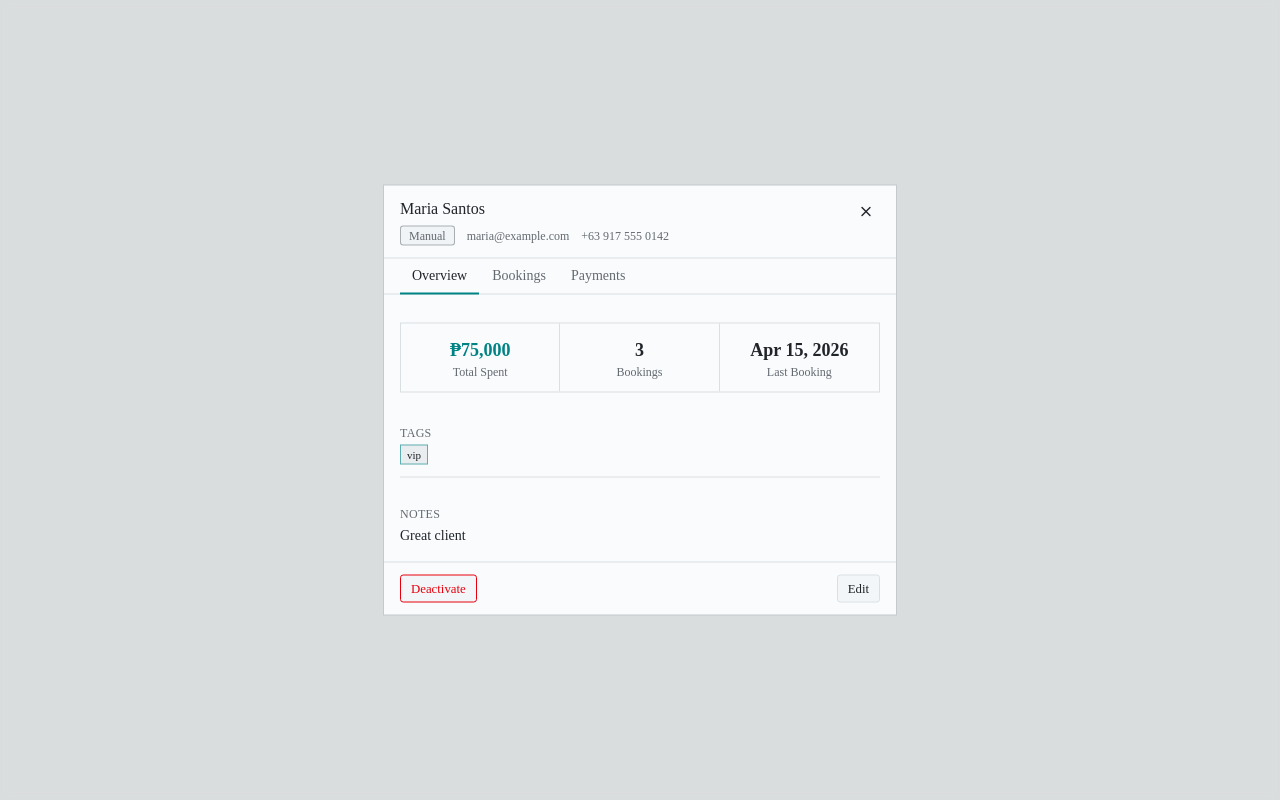
Scenario: ClientDetailModal › Bookings tab lazy-loads and shows booking title
Click the tab "Bookings" at (519, 276), box [480, 258, 558, 294]
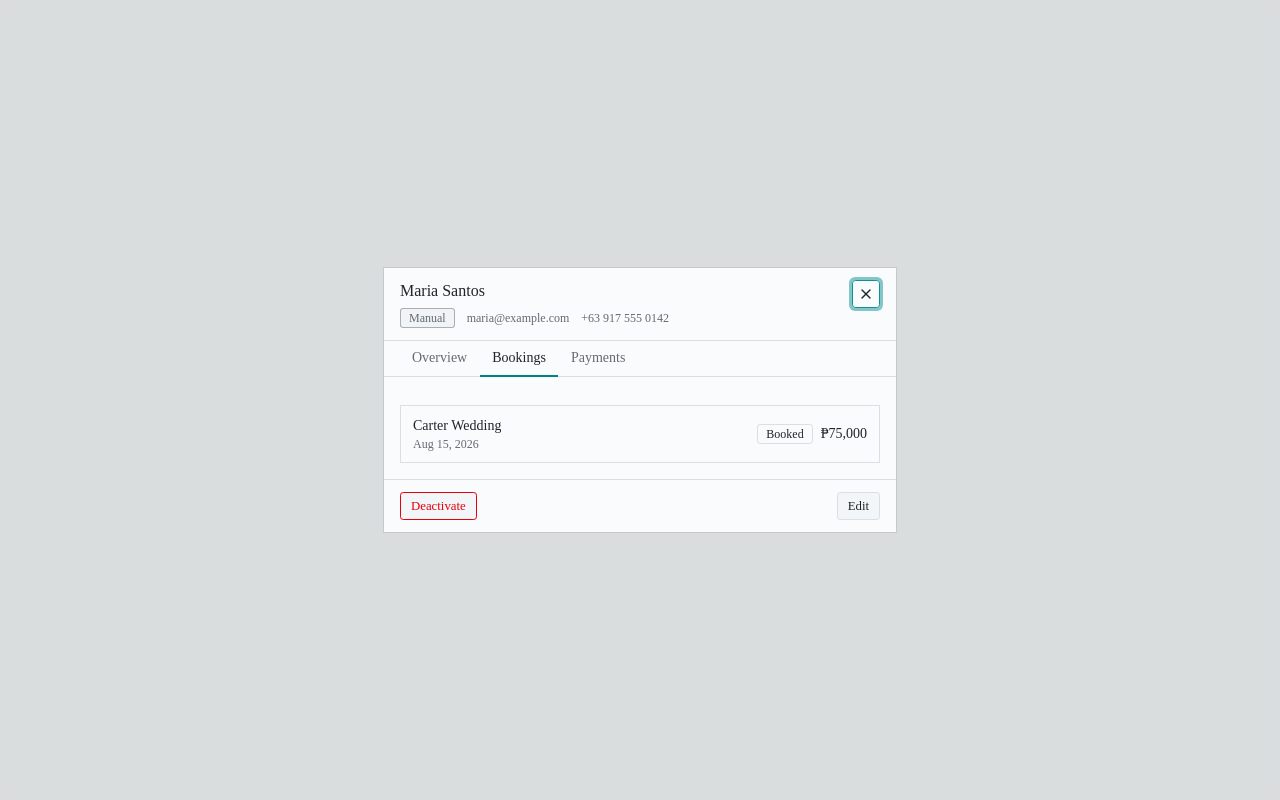
Check: the text "Carter Wedding" is shown, box [413, 416, 501, 436]
